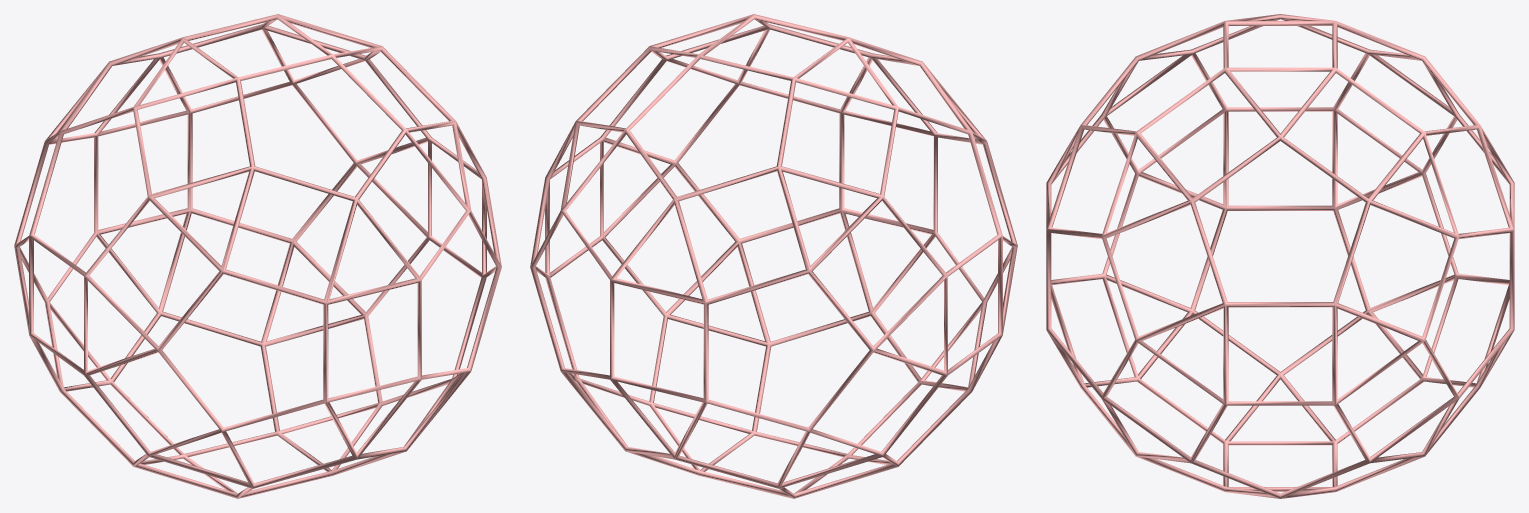
The model's file is Rhombicosidodecahedron2.glb.
3 renders of one model, left to right at view 1: azimuth 30°, elevation 25°; view 2: azimuth 150°, elevation 25°; view 3: azimuth 270°, elevation 25°, orthographic.
Visible parts, largest first — view 1: Rhombicosidodecahedron; view 2: Rhombicosidodecahedron; view 3: Rhombicosidodecahedron.
Part boxes in pixels (x1=…): Rhombicosidodecahedron: x1=14, y1=14, x2=501, y2=498; Rhombicosidodecahedron: x1=530, y1=14, x2=1017, y2=498; Rhombicosidodecahedron: x1=1046, y1=14, x2=1514, y2=498.
Size of the model in its own units: 4.28 by 4.28 by 4.28.
